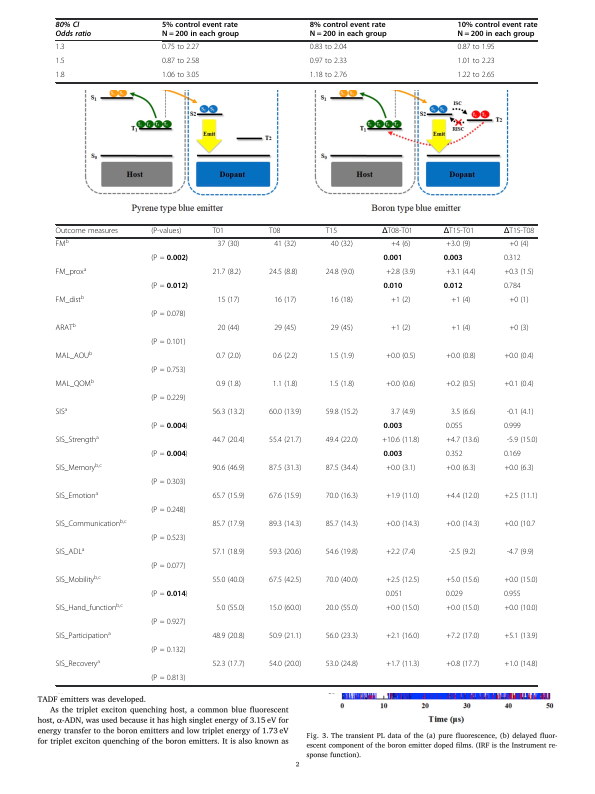borderless: (54, 222, 537, 685), (54, 17, 537, 82)
cell: (457, 21, 538, 39), (161, 21, 240, 39), (309, 21, 388, 39), (55, 518, 128, 529), (55, 602, 124, 613), (55, 21, 92, 38), (55, 630, 112, 641), (55, 227, 119, 236), (55, 462, 103, 473), (55, 574, 102, 585), (55, 658, 101, 669), (55, 434, 100, 445), (55, 490, 99, 501), (55, 378, 95, 389), (55, 350, 93, 361), (55, 266, 87, 277), (150, 254, 189, 263), (150, 282, 189, 291), (150, 422, 189, 431), (381, 436, 420, 445), (150, 450, 189, 459), (150, 590, 189, 599), (55, 294, 85, 305), (55, 546, 85, 557), (150, 310, 186, 319), (150, 338, 186, 347), (150, 366, 186, 375), (150, 394, 186, 403), (150, 478, 186, 487), (150, 506, 186, 515), (150, 534, 186, 543), (150, 562, 186, 571), (150, 618, 186, 627), (150, 646, 186, 655), (150, 674, 186, 683), (211, 408, 246, 417), (211, 436, 246, 445), (445, 436, 480, 445), (211, 464, 246, 473), (211, 492, 246, 501), (385, 492, 420, 501), (445, 492, 480, 501), (503, 492, 538, 501), (211, 520, 246, 529), (385, 520, 420, 529), (445, 520, 480, 529), (211, 548, 246, 557), (211, 576, 246, 585), (385, 576, 420, 585), (445, 576, 480, 585), (503, 576, 538, 585), (385, 604, 420, 613), (445, 604, 480, 613), (503, 604, 538, 613), (211, 632, 246, 641), (385, 632, 420, 641), (445, 632, 480, 641), (503, 632, 538, 641), (211, 660, 246, 669), (385, 660, 420, 669), (445, 660, 480, 669), (503, 660, 538, 669), (268, 408, 302, 417), (325, 408, 359, 417), (268, 436, 302, 445), (325, 436, 359, 445), (268, 464, 302, 473), (325, 464, 359, 473), (268, 492, 302, 501), (325, 492, 359, 501), (268, 520, 302, 529), (325, 520, 359, 529), (268, 548, 302, 557), (325, 548, 359, 557), (268, 576, 302, 585), (325, 576, 359, 585), (268, 604, 302, 613), (325, 604, 359, 613), (268, 632, 302, 641), (325, 632, 359, 641), (268, 660, 302, 669), (325, 660, 359, 669), (381, 227, 414, 236), (503, 520, 536, 529), (150, 227, 182, 236), (443, 227, 475, 236), (503, 227, 535, 236), (445, 268, 477, 277), (503, 268, 535, 277), (445, 352, 477, 361), (503, 352, 535, 361), (445, 380, 477, 389), (503, 380, 535, 389), (506, 436, 538, 445), (445, 464, 477, 473), (503, 464, 535, 473), (211, 268, 242, 277), (385, 268, 416, 277), (385, 352, 416, 361), (385, 380, 416, 389), (385, 464, 416, 473), (385, 548, 416, 557), (215, 604, 246, 613), (161, 44, 200, 51), (309, 44, 348, 51), (457, 44, 496, 51), (161, 58, 200, 65), (309, 58, 348, 65), (457, 58, 496, 65), (161, 72, 200, 79), (309, 72, 348, 79), (457, 72, 496, 79), (268, 268, 298, 277), (325, 268, 355, 277), (506, 408, 535, 417), (448, 548, 477, 557), (506, 548, 535, 557), (215, 352, 242, 361), (328, 352, 355, 361), (215, 380, 242, 389), (328, 380, 355, 389), (450, 408, 477, 417), (55, 322, 77, 333), (445, 240, 471, 249), (272, 352, 298, 361), (272, 380, 298, 389), (390, 408, 416, 417), (273, 240, 297, 249), (330, 240, 354, 249), (273, 296, 297, 305), (330, 296, 354, 305), (273, 324, 297, 333), (330, 324, 354, 333), (217, 240, 240, 249), (217, 296, 240, 305), (217, 324, 240, 333), (390, 240, 411, 249), (508, 240, 529, 249), (390, 296, 411, 305), (450, 296, 471, 305), (508, 296, 529, 305), (390, 324, 411, 333), (450, 324, 471, 333), (508, 324, 529, 333), (382, 254, 403, 262), (382, 282, 403, 290), (382, 422, 403, 430), (382, 450, 403, 458), (55, 238, 70, 249), (503, 254, 521, 263), (503, 282, 521, 291), (445, 422, 463, 431), (503, 422, 521, 431), (445, 450, 463, 459), (503, 450, 521, 459), (385, 590, 403, 599), (445, 590, 463, 599), (503, 590, 521, 599), (443, 254, 463, 262), (443, 282, 463, 290), (55, 406, 68, 417), (211, 227, 225, 236), (268, 227, 281, 236), (325, 227, 338, 236), (55, 44, 65, 51), (55, 58, 65, 65), (55, 72, 65, 79)
